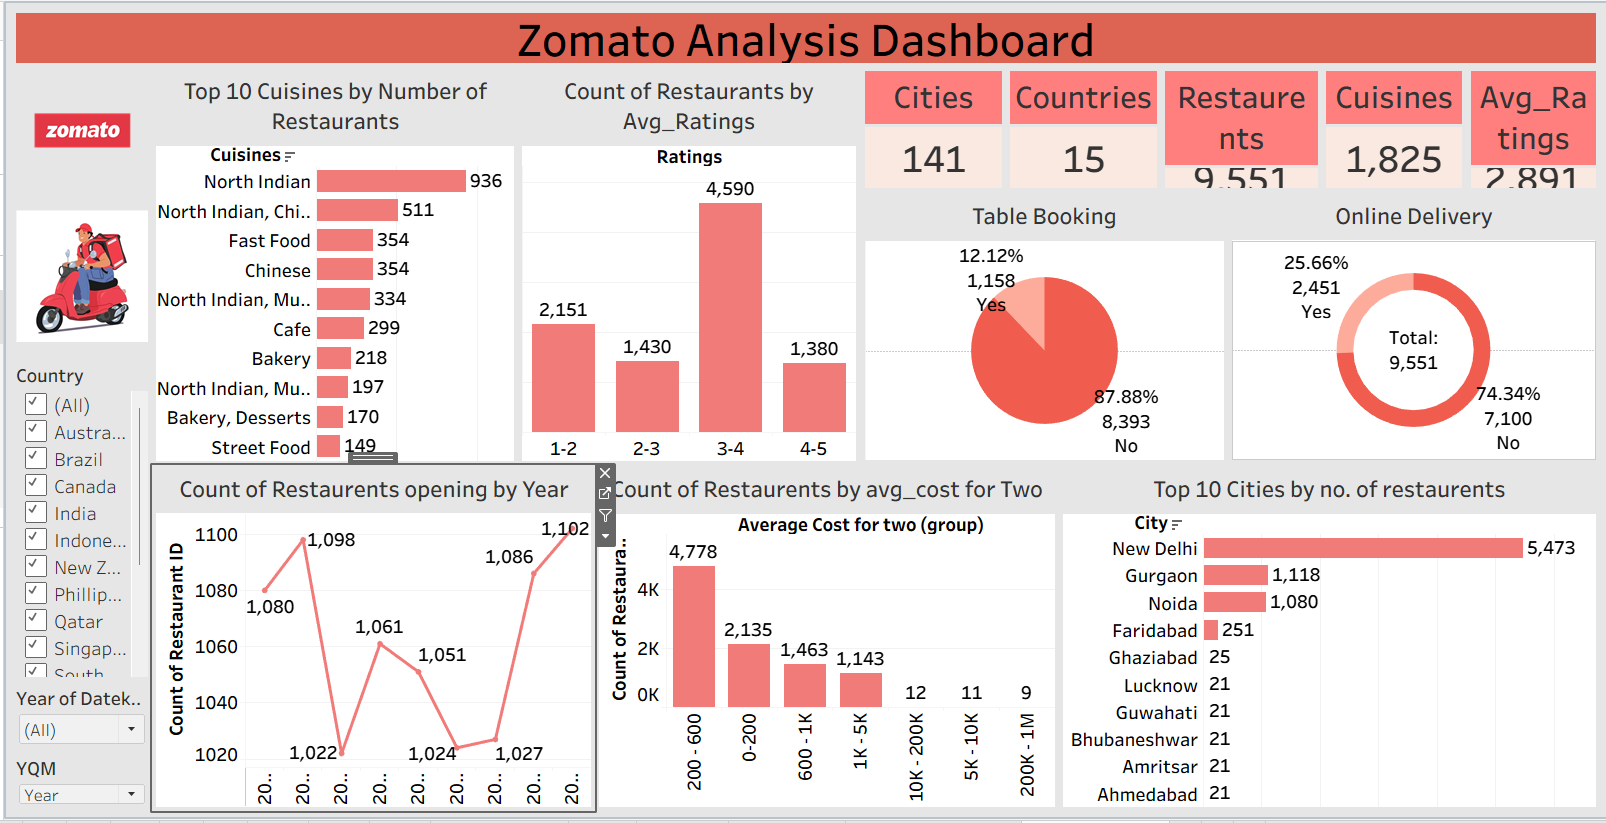

What the dashboard file says about the page in this screenshot:
{"tool":"tableau","page":{"name":"Dashboard 1","canvas":[1000,1000],"units":"permille","ordinal":0},"visuals":[{"type":"title","box":[4.7,9.3,990.6,67.8]},{"type":"image","param":"Image/Zomato-01.png","box":[4.7,77.1,87.2,154.2]},{"type":"worksheet","title":"Q9.1","mark":"Bar","rows":["Cuisines"],"cols":["RestaurantID"],"box":[91.9,77.1,228.8,488.3]},{"type":"worksheet","title":"Q5","mark":"Bar","rows":["RestaurantID"],"box":[320.7,77.1,213.6,488.3]},{"type":"worksheet","title":"Cities","mark":"Automatic","box":[534.2,77.1,90.7,153.8]},{"type":"worksheet","title":"Countries KPI","mark":"Automatic","box":[624.9,77.1,96.5,153.8]},{"type":"worksheet","title":"No.of Restaurents","mark":"Automatic","box":[721.5,77.1,100.7,153.8]},{"type":"worksheet","title":"Cuisines","mark":"Automatic","box":[822.1,77.1,90.1,153.8]},{"type":"worksheet","title":"Avg_Rating","mark":"Automatic","box":[912.2,77.1,83.1,153.8]},{"type":"worksheet","title":"Q8","mark":"Pie","rows":["Calculation_1653697936269313"],"box":[534.2,230.9,228.8,334.5]},{"type":"worksheet","title":"Q7","mark":"Pie","rows":["Calculation_1653697936269313","Calculation_1653697936297988"],"box":[763,230.9,232.3,334.5]},{"type":"image","param":"Image/efficient-courier-character-nimble-scooter-swiftly-navigating-through-traf","box":[4.7,231.3,87.2,203.6]},{"type":"filter","title":"Q4","param":"[federated.016xqse1vda4d4131lust1yyhlr4].[none:Country:nk]","box":[4.7,434.9,87.2,392.5]},{"type":"worksheet","title":"Q4","mark":"Line","rows":["RestaurantID"],"cols":["Calculation_0859850820710400"],"box":[91.9,565.4,276.8,425.2]},{"type":"worksheet","title":"Q 6","mark":"Bar","rows":["RestaurantID"],"box":[368.6,565.4,289.4,425.2]},{"type":"worksheet","title":"Q9.2","mark":"Automatic","rows":["City"],"cols":["RestaurantID"],"box":[658,565.4,337.3,425.2]},{"type":"filter","title":"Q4","param":"[federated.016xqse1vda4d4131lust1yyhlr4].[yr:Datekey/Opening:ok]","box":[4.7,827.4,87.2,60.8]},{"type":"parameter","param":"[Parameters].[Parameter 1]","box":[4.7,888.2,87.2,60.8]}]}

Visuals, with their boxes on the dashboard's canvas, which has no fixed pixel size, in thousandths of its width and height (x1, y1, x2, y2). These are canvas units, not pixel positions in the 1606x823 screenshot, which may show the page scaled, cropped or inside an application window:
title: <box>5,9,995,77</box>
image: <box>5,77,92,231</box>
"Q9.1" worksheet (Bar marks): <box>92,77,321,565</box>
"Q5" worksheet (Bar marks): <box>321,77,534,565</box>
"Cities" worksheet: <box>534,77,625,231</box>
"Countries KPI" worksheet: <box>625,77,721,231</box>
"No.of Restaurents" worksheet: <box>722,77,822,231</box>
"Cuisines" worksheet: <box>822,77,912,231</box>
"Avg_Rating" worksheet: <box>912,77,995,231</box>
"Q8" worksheet (Pie marks): <box>534,231,763,565</box>
"Q7" worksheet (Pie marks): <box>763,231,995,565</box>
image: <box>5,231,92,435</box>
"Q4" filter: <box>5,435,92,827</box>
"Q4" worksheet (Line marks): <box>92,565,369,991</box>
"Q 6" worksheet (Bar marks): <box>369,565,658,991</box>
"Q9.2" worksheet: <box>658,565,995,991</box>
"Q4" filter: <box>5,827,92,888</box>
parameter: <box>5,888,92,949</box>
